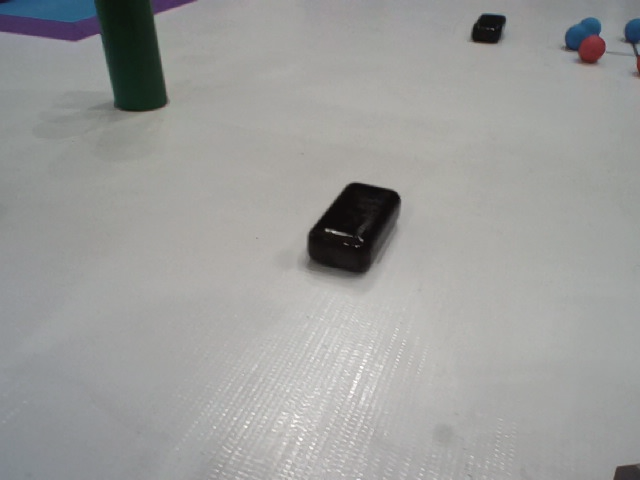black: (306, 181, 400, 275), (470, 14, 511, 42)
blue: (566, 24, 587, 47), (624, 18, 640, 45), (579, 18, 598, 35)
kuang: (1, 1, 207, 43)
red: (580, 38, 613, 64)
zhuzi: (93, 1, 170, 113)
